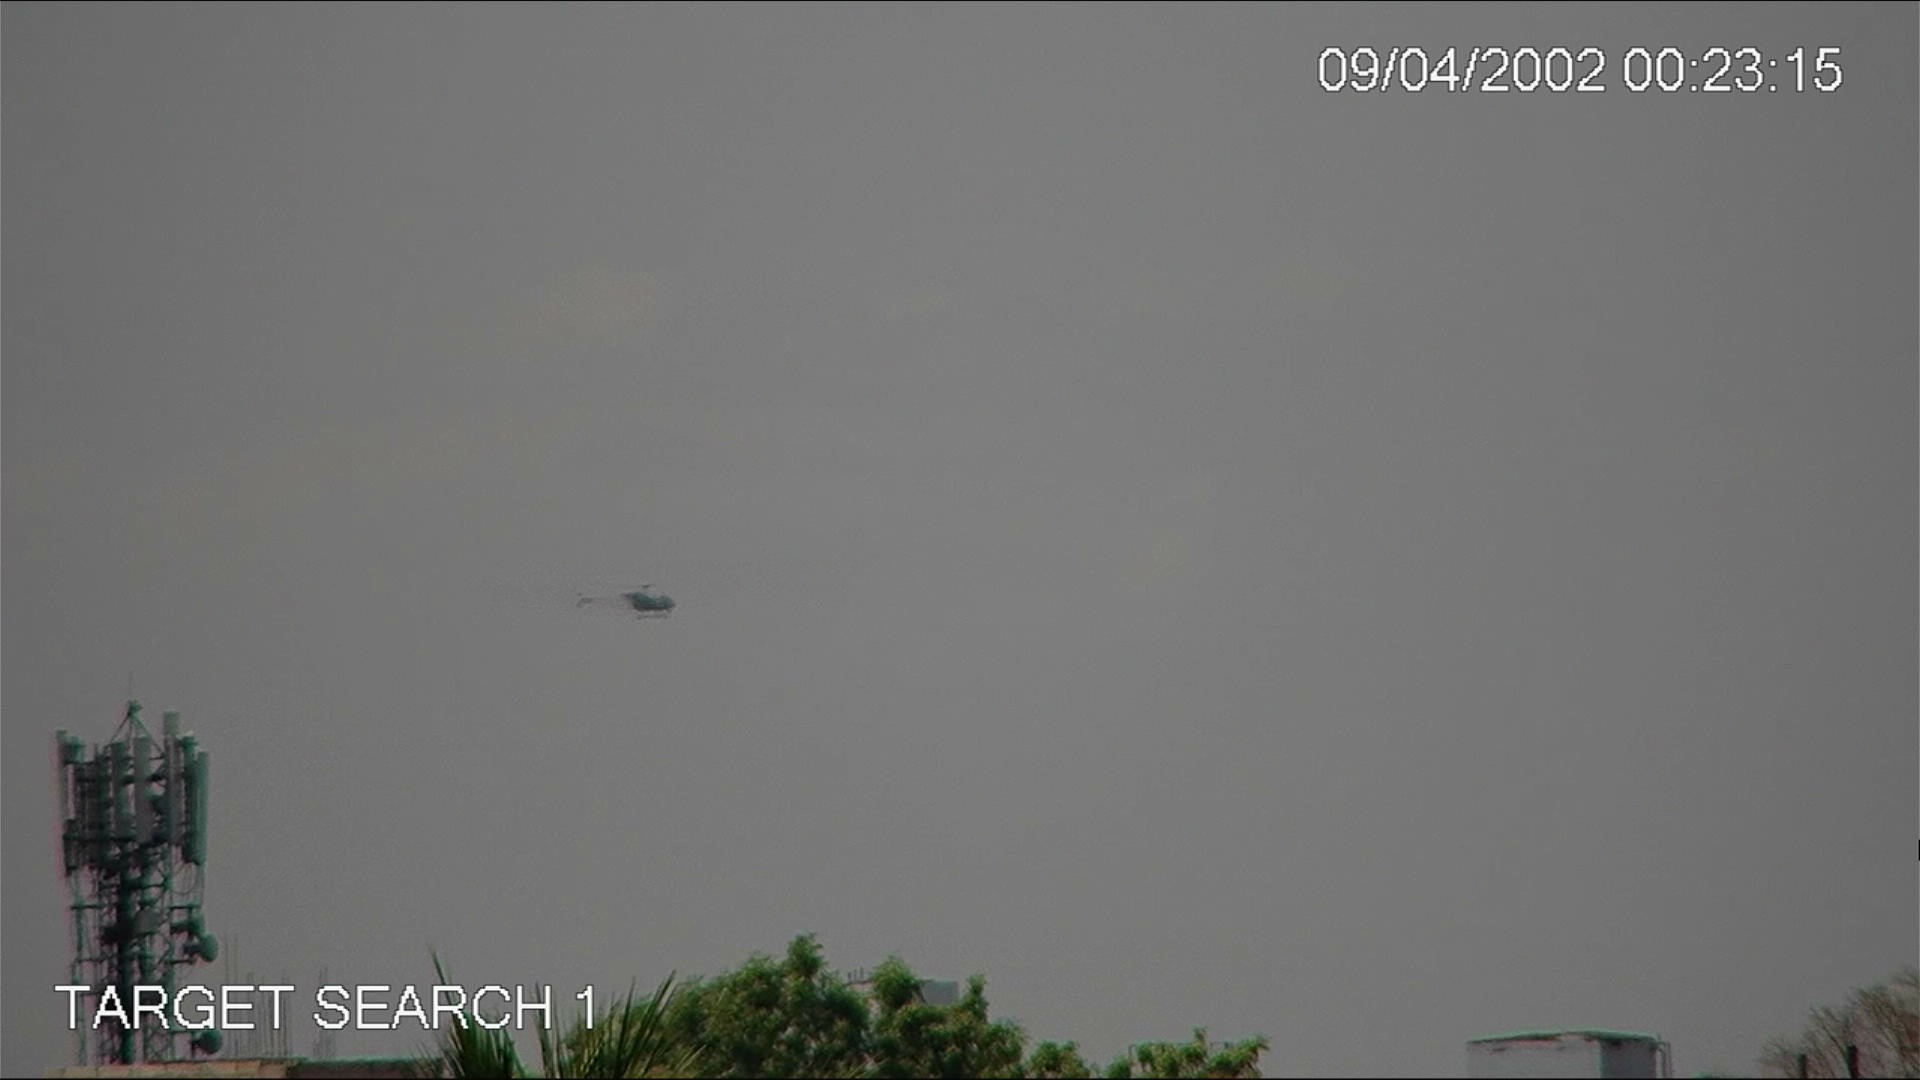SU_30: (566, 578, 675, 630)
